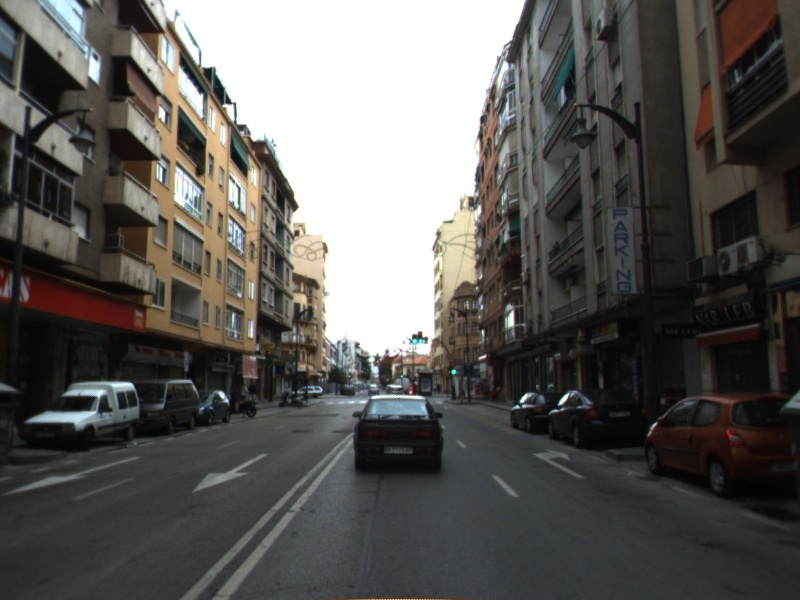RIGHT: (532, 446, 588, 480)
